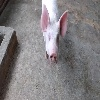heo: (37, 2, 70, 63)
